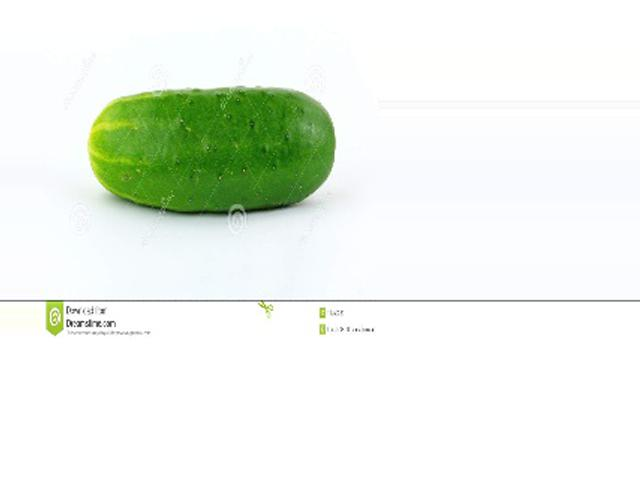cucumber: (89, 89, 336, 213)
